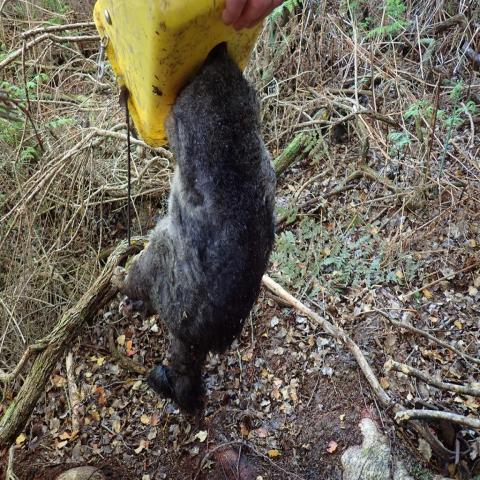small_animal: (110, 40, 278, 417)
